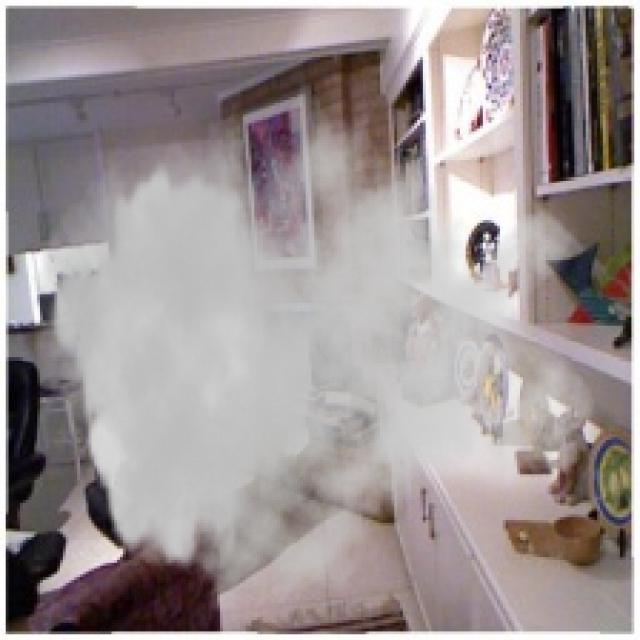smoke: (32, 57, 597, 623)
